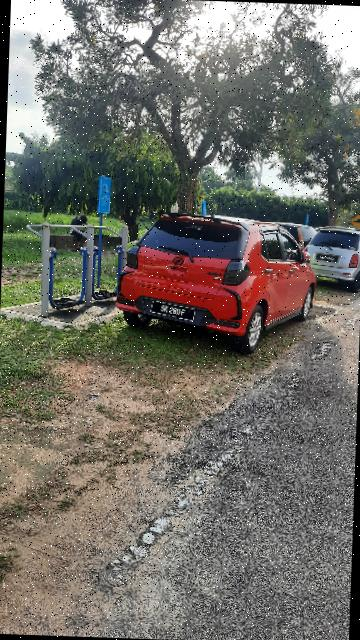License_Plate: (150, 298, 204, 327)
car: (112, 212, 321, 351), (307, 219, 360, 292)
